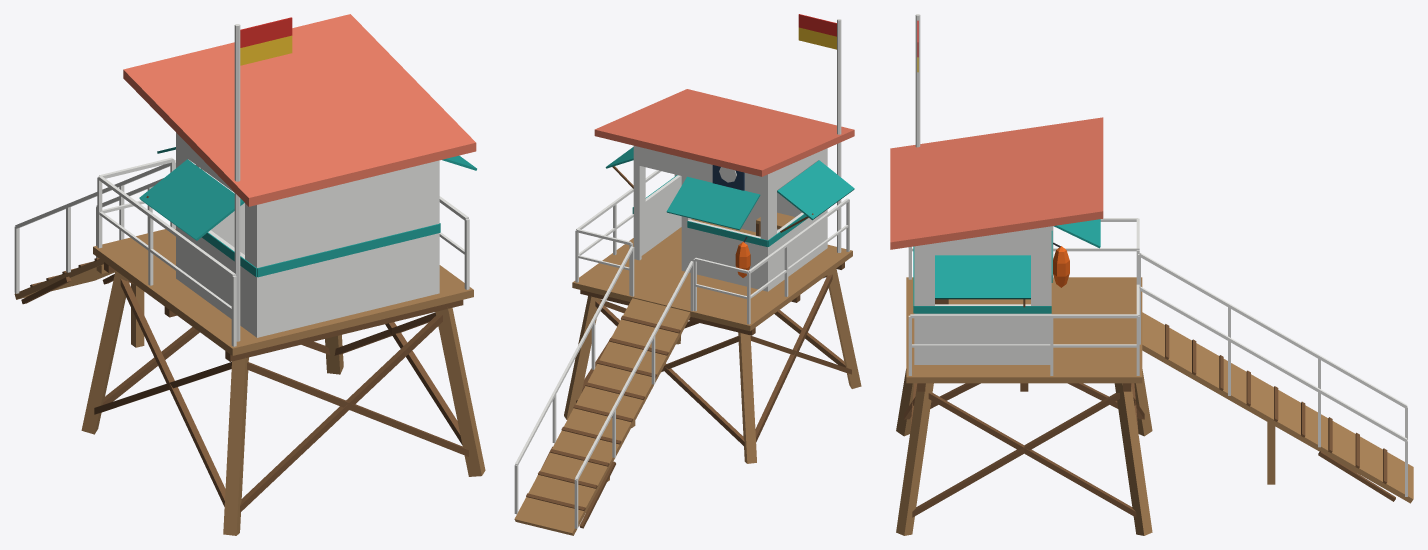
Rendered from lifeguard_tower.glb.
3 renders of one model, left to right at view 1: azimuth 30°, elevation 25°; view 2: azimuth 150°, elevation 25°; view 3: azimuth 270°, elevation 25°, orthographic. The views are drawn at different scales.
Parts seen in each view (by area): view 1: Tower; view 2: Tower; view 3: Tower.
Boxes of the visible parts, x1,y1,x2,y2 form: Tower: [14, 14, 485, 535]; Tower: [514, 14, 861, 535]; Tower: [890, 14, 1413, 535].
Size of the model in its own units: 4.01 by 6.87 by 7.62.
